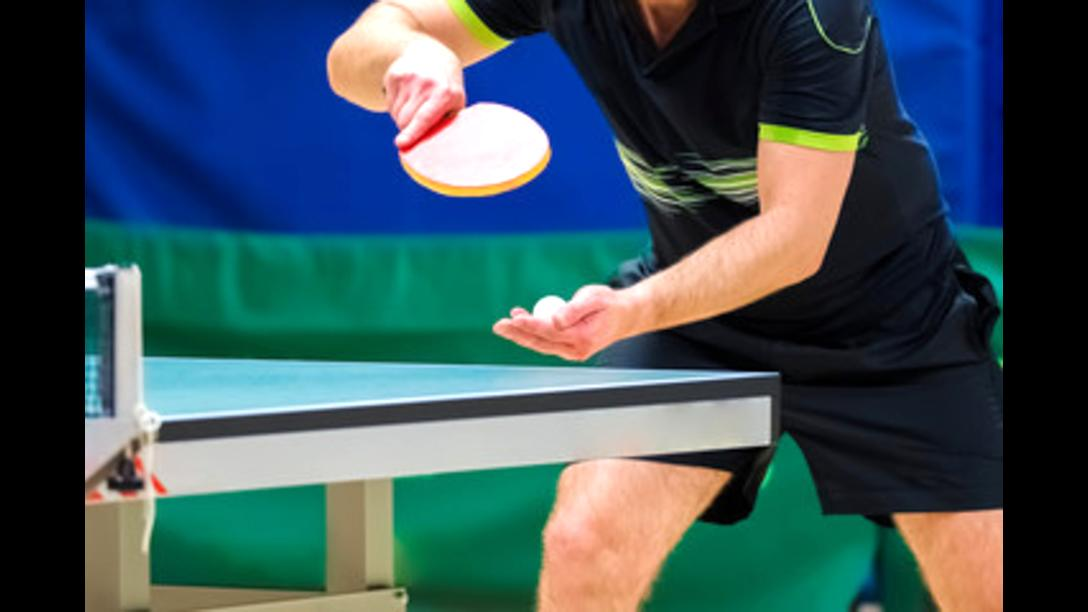Table-Tennis-Ball: (534, 294, 566, 322)
